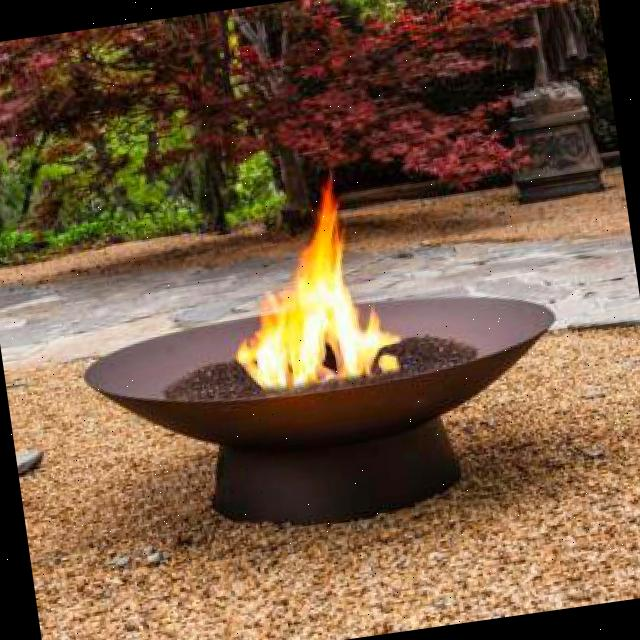fire: (215, 155, 418, 403)
